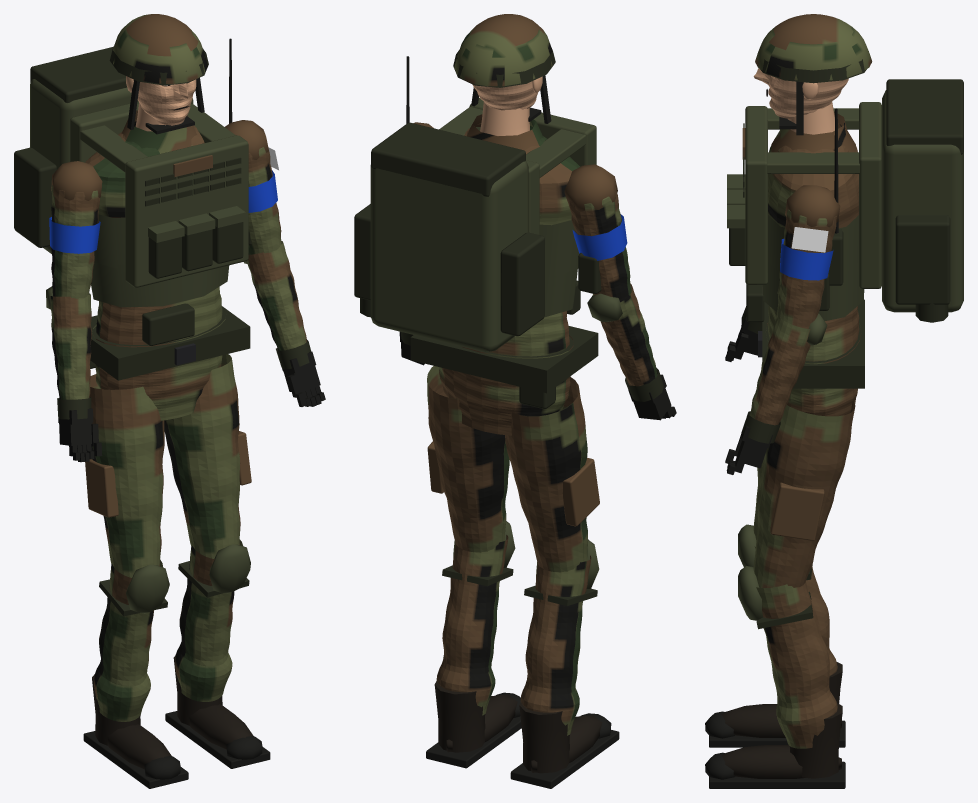
Rendered from Soldier_0.obj.
3 renders of one model, left to right at view 1: azimuth 30°, elevation 25°; view 2: azimuth 150°, elevation 25°; view 3: azimuth 270°, elevation 25°, orthographic. The views are drawn at different scales.
Parts seen in each view (by area): view 1: Thigh, Shin, FrontPlate, Forearm, UpperArm, Helmet, Belt, Pack, Pelvis, CummerbundLow, MagPouch, BootFoot (+25 smaller); view 2: Pack, Thigh, Shin, PackFlap, Belt, BootShaft, Helmet, Pelvis, PackSideR, Forearm, BootSole, UpperArm (+24 smaller); view 3: Thigh, Shin, Pack, Helmet, PackFlap, PackSideL, BackPlate, FrontPlate, BootFoot, Forearm, ChestShape, UpperArm (+27 smaller).
Boxes of the visible parts, bbox=[...] form: Thigh: bbox=[89, 354, 240, 577]; Shin: bbox=[94, 539, 242, 721]; FrontPlate: bbox=[125, 135, 248, 287]; Forearm: bbox=[50, 241, 306, 399]; UpperArm: bbox=[51, 147, 281, 298]; Helmet: bbox=[113, 14, 207, 83]; Belt: bbox=[90, 306, 250, 380]; Pack: bbox=[30, 79, 138, 253]; Pelvis: bbox=[92, 308, 226, 420]; CummerbundLow: bbox=[91, 262, 229, 307]; MagPouch: bbox=[148, 222, 243, 278]; BootFoot: bbox=[107, 704, 253, 769]; Pack: bbox=[370, 161, 528, 351]; Thigh: bbox=[427, 366, 588, 572]; Shin: bbox=[436, 535, 591, 735]; PackFlap: bbox=[371, 122, 525, 196]; Belt: bbox=[410, 325, 598, 393]; BootShaft: bbox=[434, 681, 569, 773]; Helmet: bbox=[454, 14, 552, 86]; Pelvis: bbox=[439, 335, 573, 435]; PackSideR: bbox=[500, 232, 544, 336]; Forearm: bbox=[593, 283, 657, 386]; BootSole: bbox=[426, 716, 619, 788]; UpperArm: bbox=[569, 187, 631, 302]; Thigh: bbox=[753, 401, 855, 587]; Shin: bbox=[754, 546, 837, 748]; Pack: bbox=[882, 90, 963, 312]; Helmet: bbox=[755, 14, 872, 80]; PackFlap: bbox=[886, 79, 963, 154]; PackSideL: bbox=[895, 215, 950, 304]; BackPlate: bbox=[859, 102, 881, 288]; FrontPlate: bbox=[745, 106, 767, 284]; BootFoot: bbox=[720, 704, 841, 778]; Forearm: bbox=[749, 317, 810, 425]; ChestShape: bbox=[768, 123, 858, 228]; UpperArm: bbox=[777, 209, 836, 328].
Size of the model in its own units: 0.6572 by 1.8 by 0.5683.
88 materials, 18 textured.
